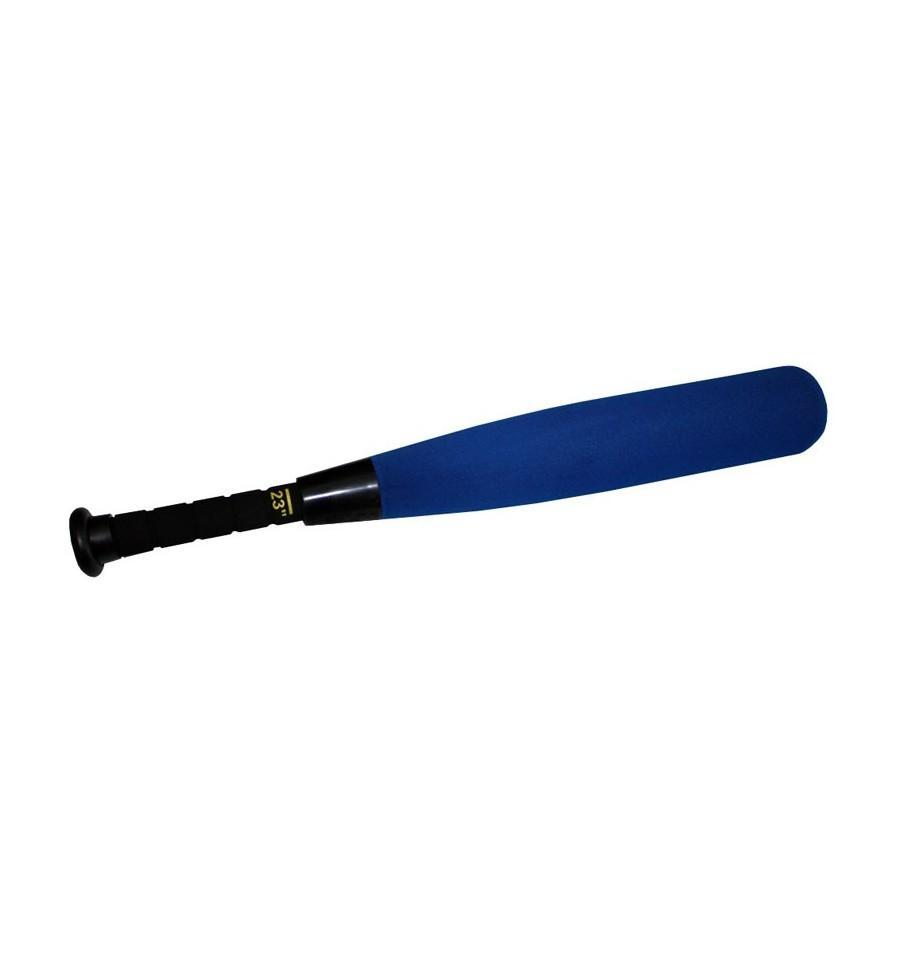Baseball-Bat: (32, 288, 894, 558)
